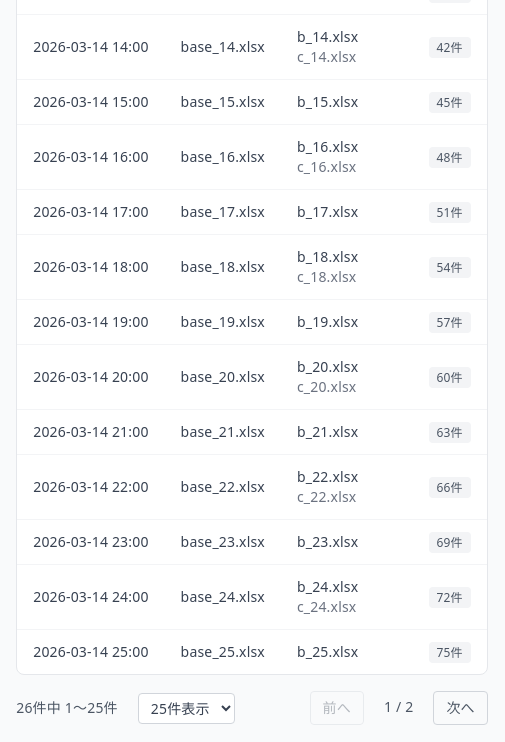
Test: B-025: ページネーション › 末尾ページでは「次へ」ボタンが非活性
(page scrolled)
Click the button "次へ".
click(461, 708)  # box [433,691,488,725]
(page scrolled)
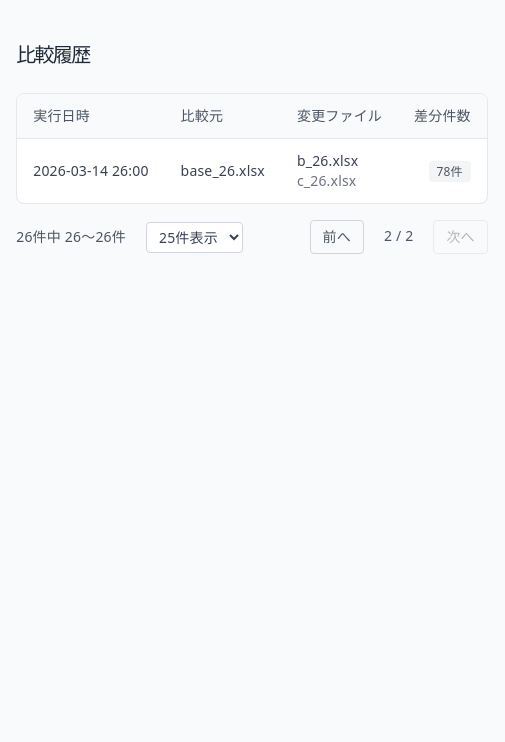
Now the button "次へ" is disabled, box [433,220,488,254]
